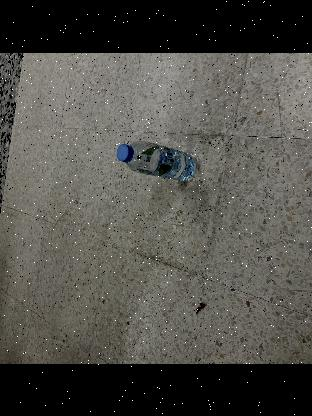Plastic Bottle: (116, 139, 199, 181)
